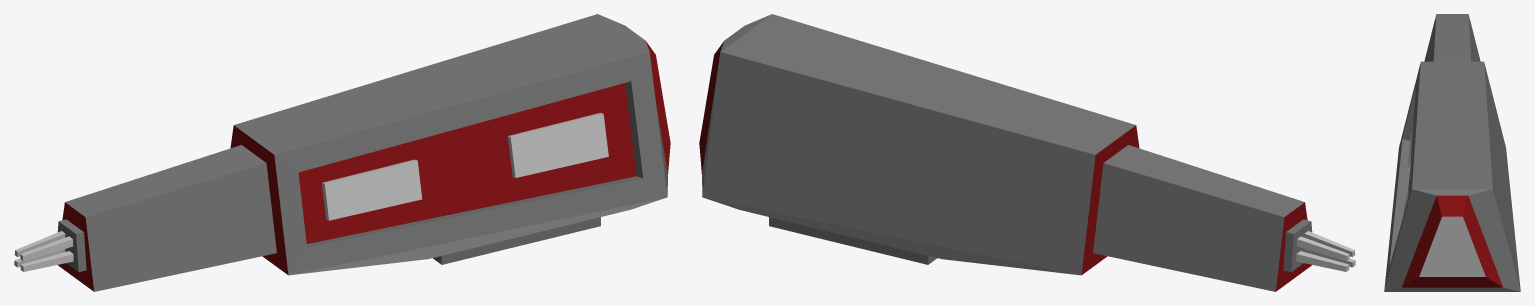
The model's file is mining_laser_6.glb.
The picture shows the model from 3 angles, left to right: view 1: azimuth 30°, elevation 25°; view 2: azimuth 150°, elevation 25°; view 3: azimuth 270°, elevation 25°; orthographic projection. The views are drawn at different scales.
Visible parts, largest first — view 1: Cube; view 2: Cube; view 3: Cube.
Boxes of the visible parts, left/top/right/bottom form: Cube: left=14, top=14, right=670, bottom=291; Cube: left=699, top=14, right=1355, bottom=291; Cube: left=1384, top=14, right=1520, bottom=291.
Bounding box in the file's own units: 5.93 × 1.42 × 1.43.
